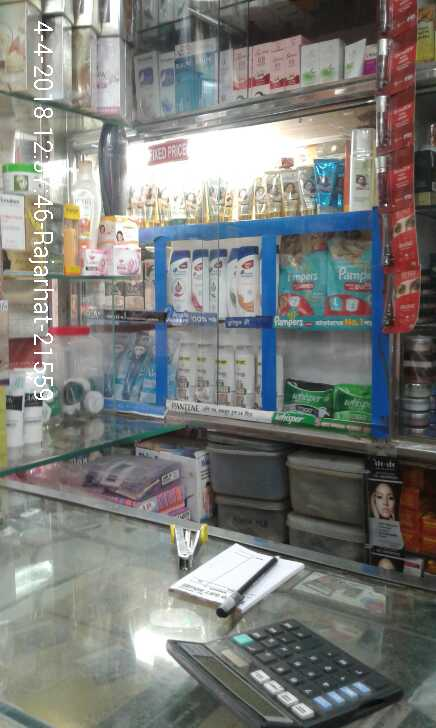venus: (123, 336, 151, 399), (104, 336, 123, 399)
